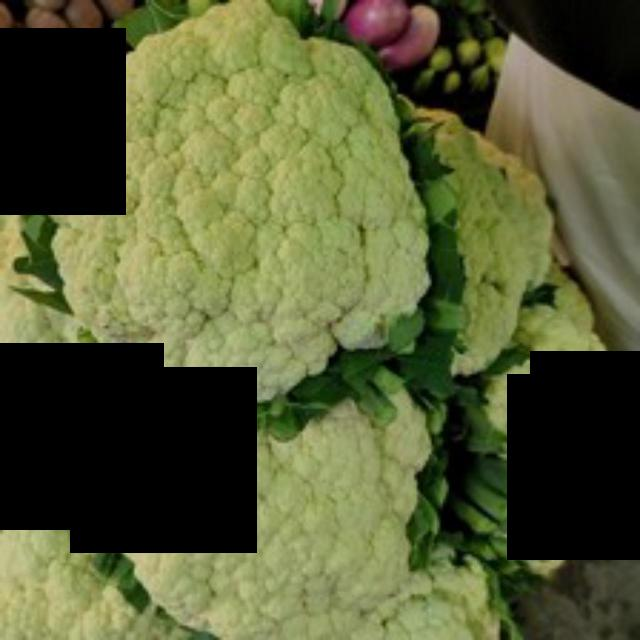cauliflower: (48, 15, 448, 402)
